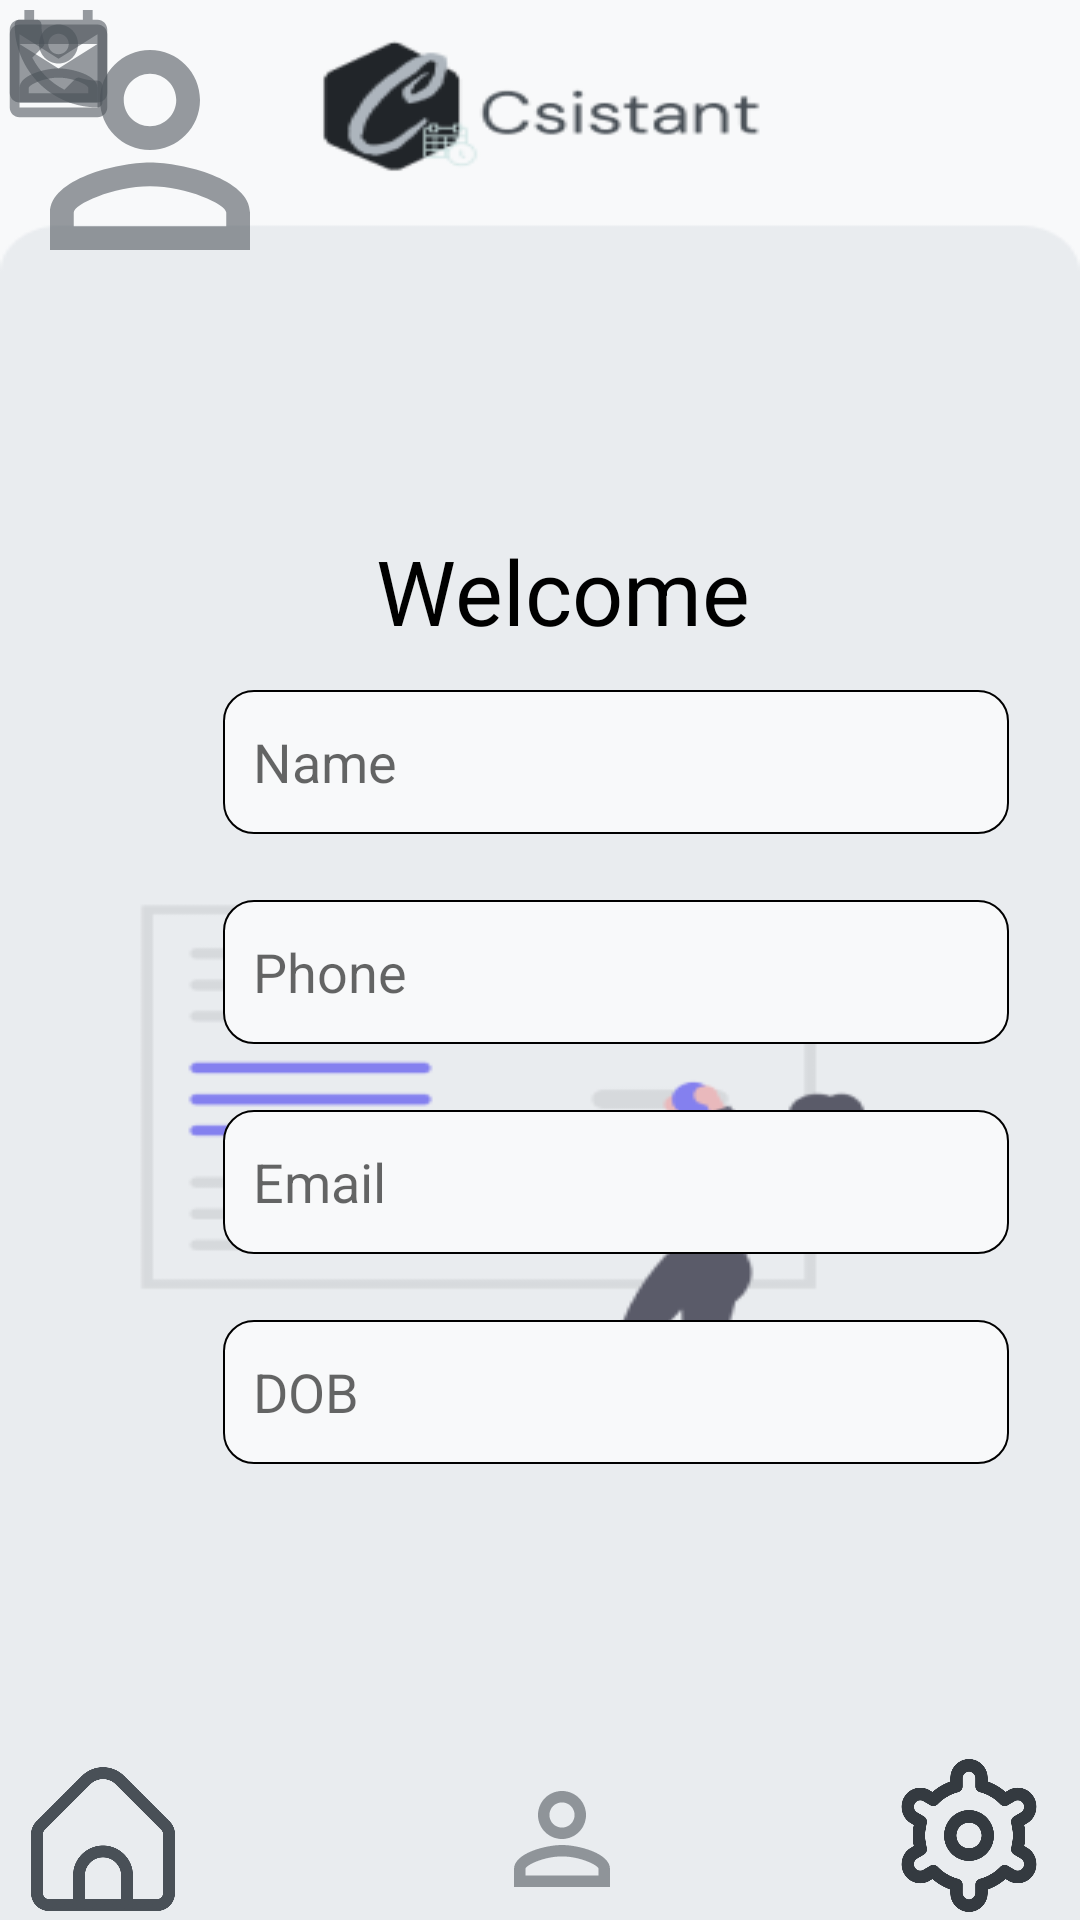

Icons on this 1080px×1920px Android screen, each with the point to tap as [x,y]:
home: [103,1839]
settings: [969,1835]
